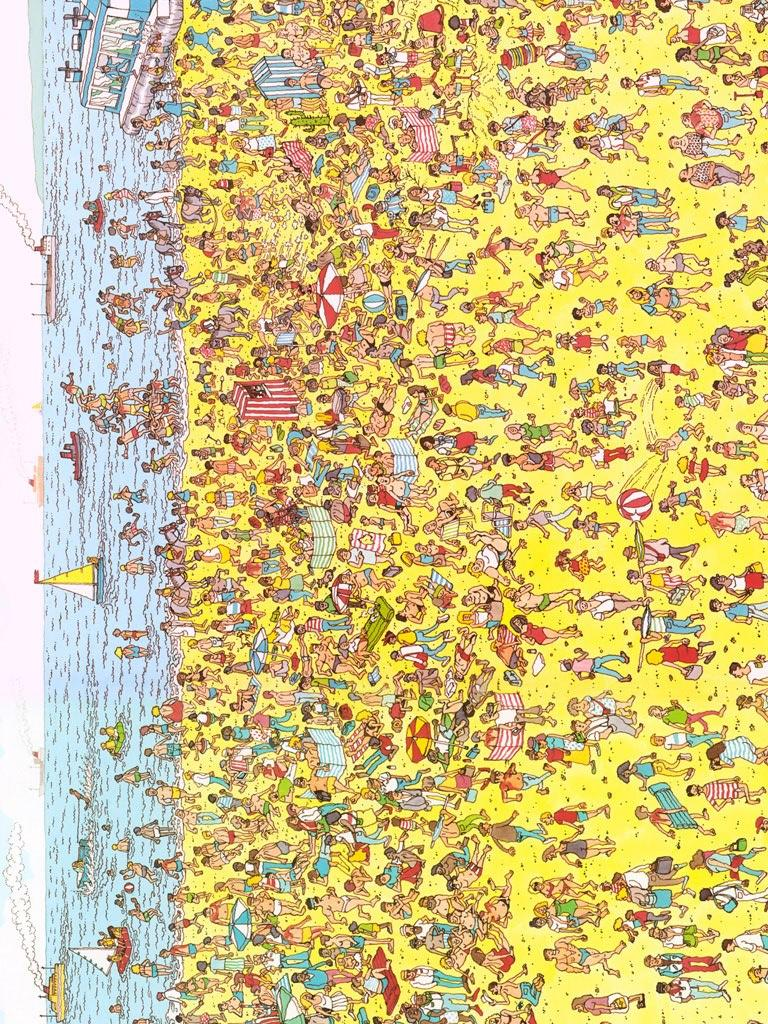waldos: (262, 499, 310, 533)
